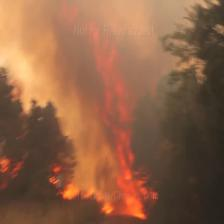fire: (31, 23, 175, 224)
